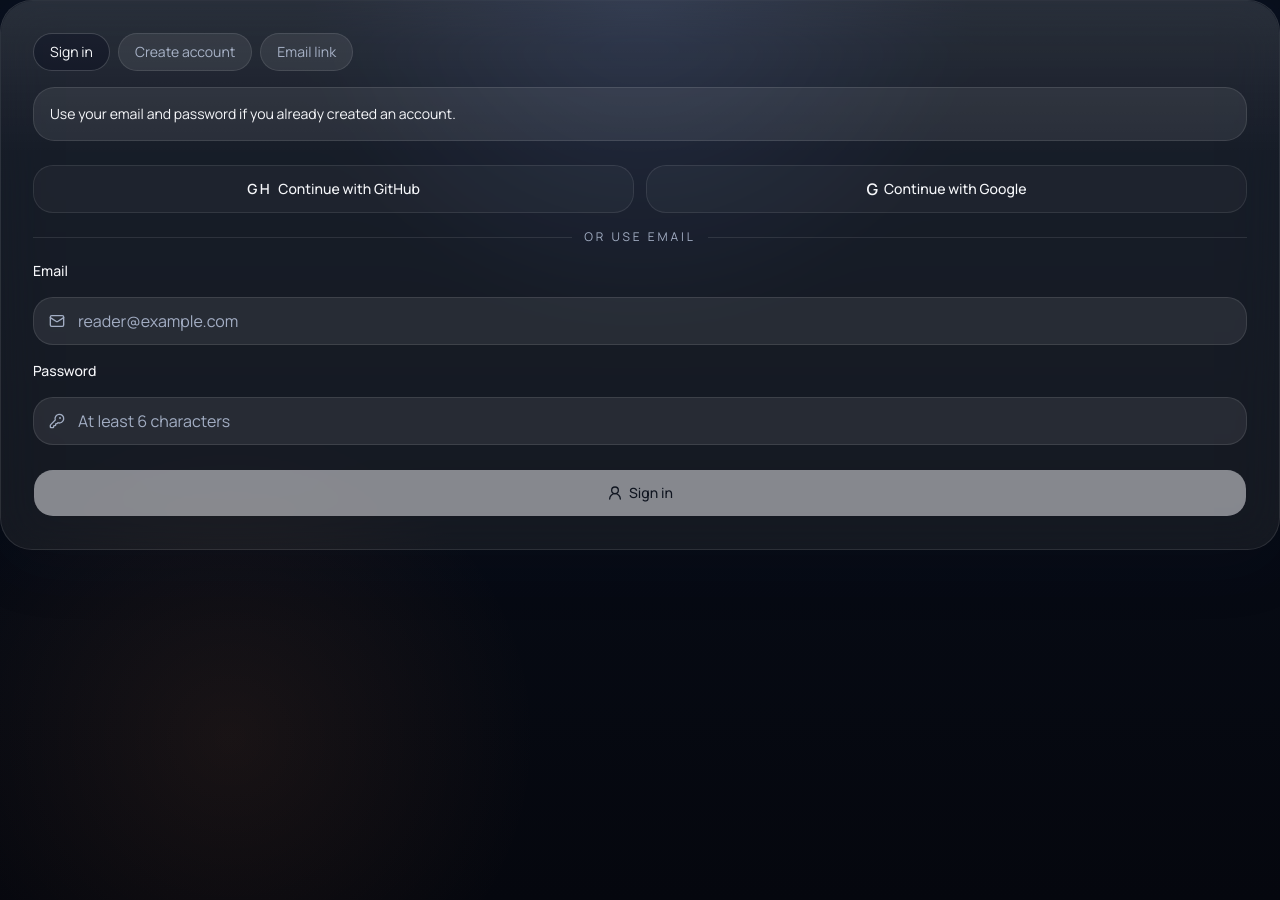
Test: AccountPanel › offers GitHub auth and explains the email link flow
What coordinates should you click on to do the following:
click the button "GH Continue with GitHub"
I would click on:
 (334, 189)
Its box is [33, 165, 634, 213].
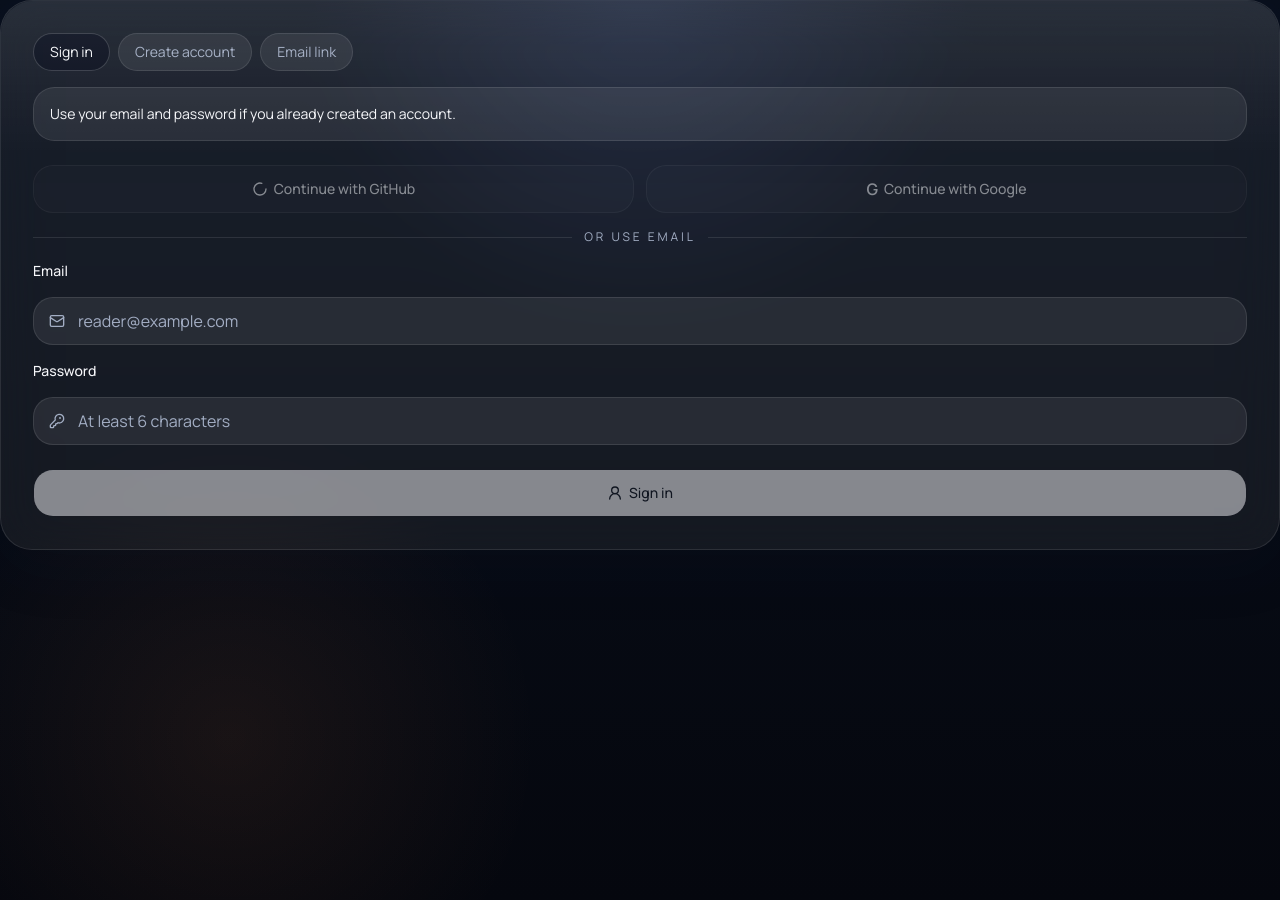
What coordinates should you click on to do the following:
click the button "Email link"
I would click on:
 (307, 52)
Its box is [260, 33, 353, 71].
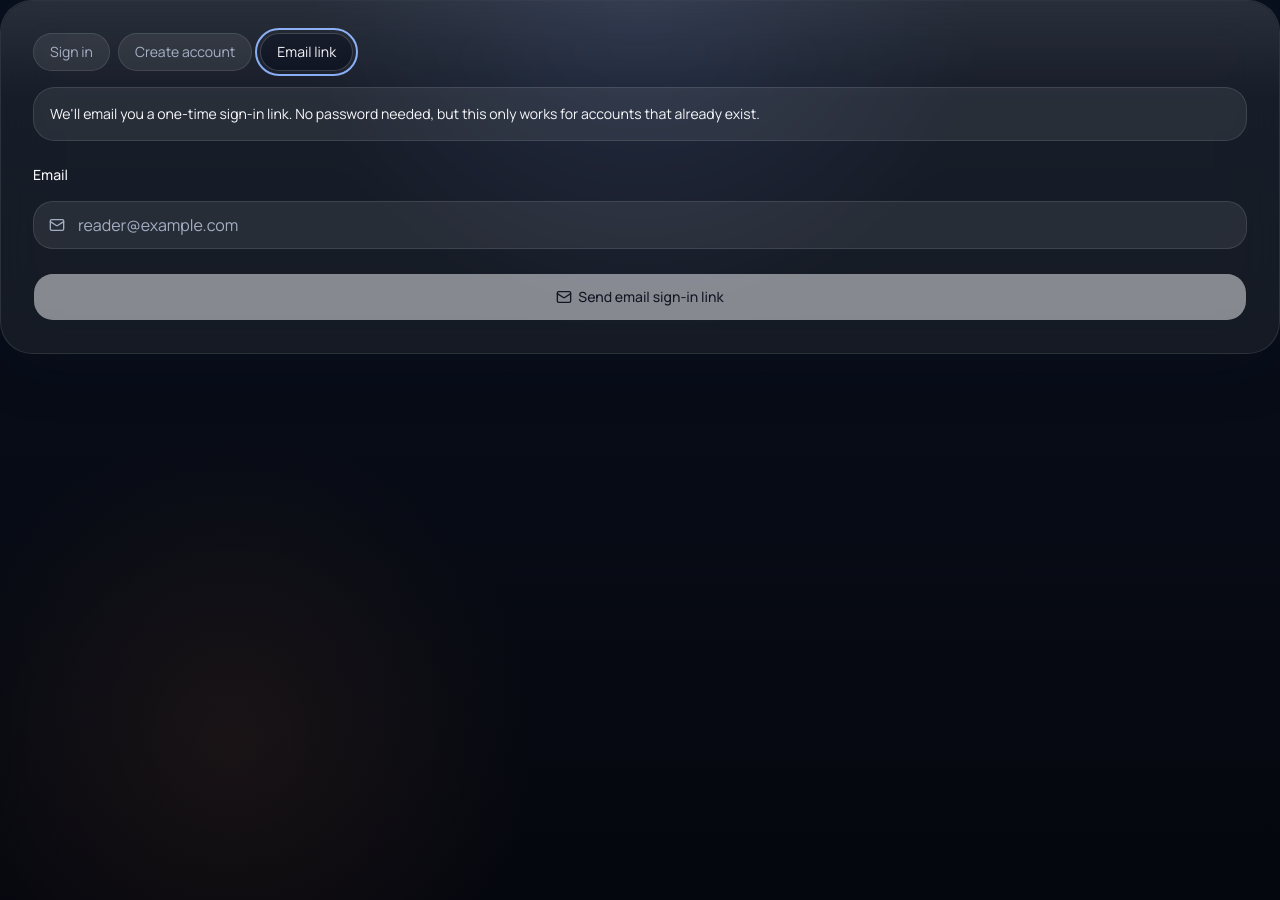
expect the text "We'll email you a one-time sign-in link." is shown: met, box [50, 104, 760, 123]
expect the button "Send email sign-in link" is shown: met, box [33, 273, 1247, 321]
